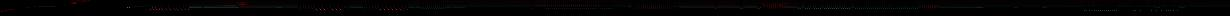Blue cone: (8, 9, 14, 10), (25, 7, 31, 8)
Orange: (760, 3, 789, 9), (920, 5, 939, 9), (236, 2, 249, 6)
